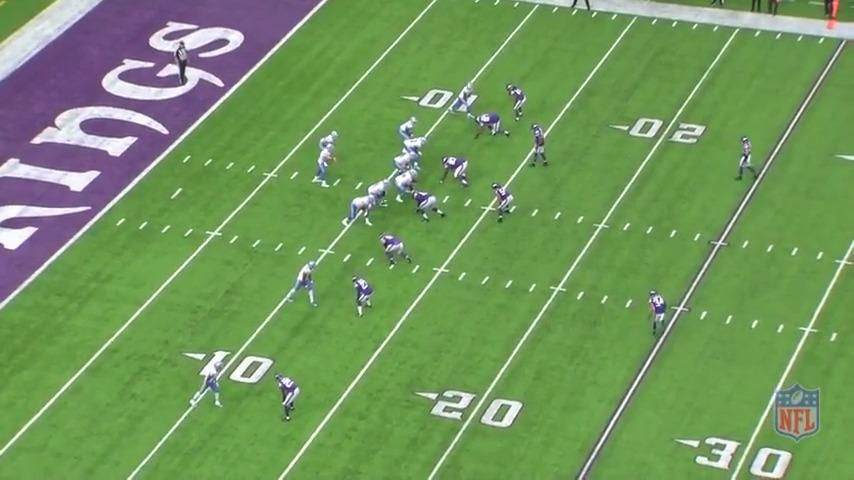center: (394, 167, 420, 201)
db: (642, 291, 671, 337), (275, 372, 301, 420), (732, 133, 757, 176), (352, 278, 376, 313), (503, 82, 523, 112)
lb: (489, 183, 515, 219), (530, 124, 547, 164)
qb: (317, 143, 336, 183)
skill: (197, 361, 229, 403), (290, 262, 318, 300), (453, 81, 472, 111), (319, 125, 340, 143), (401, 116, 418, 132)
